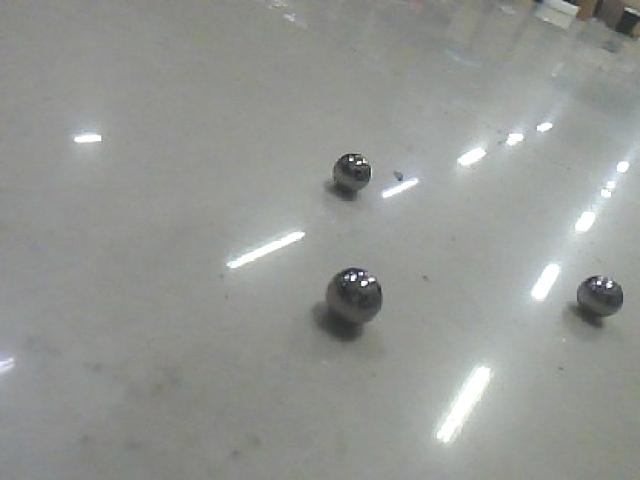steel-ball: (309, 249, 391, 334), (554, 257, 624, 334), (315, 138, 377, 197)
